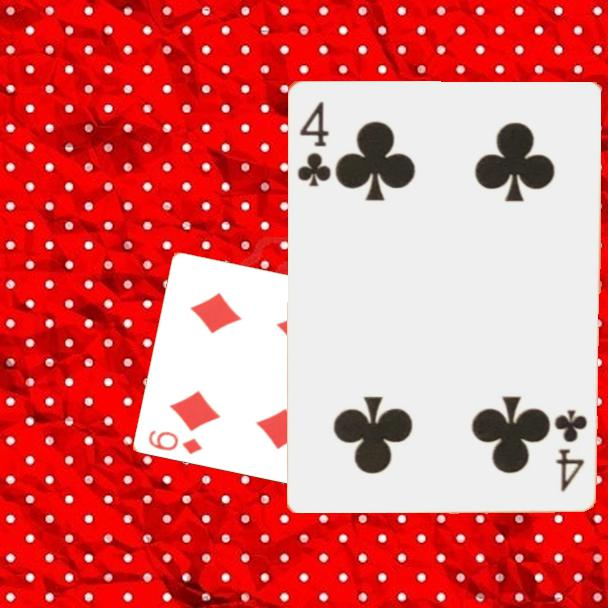c04: (293, 97, 334, 189), (553, 406, 590, 494)
d06: (145, 426, 206, 457)
